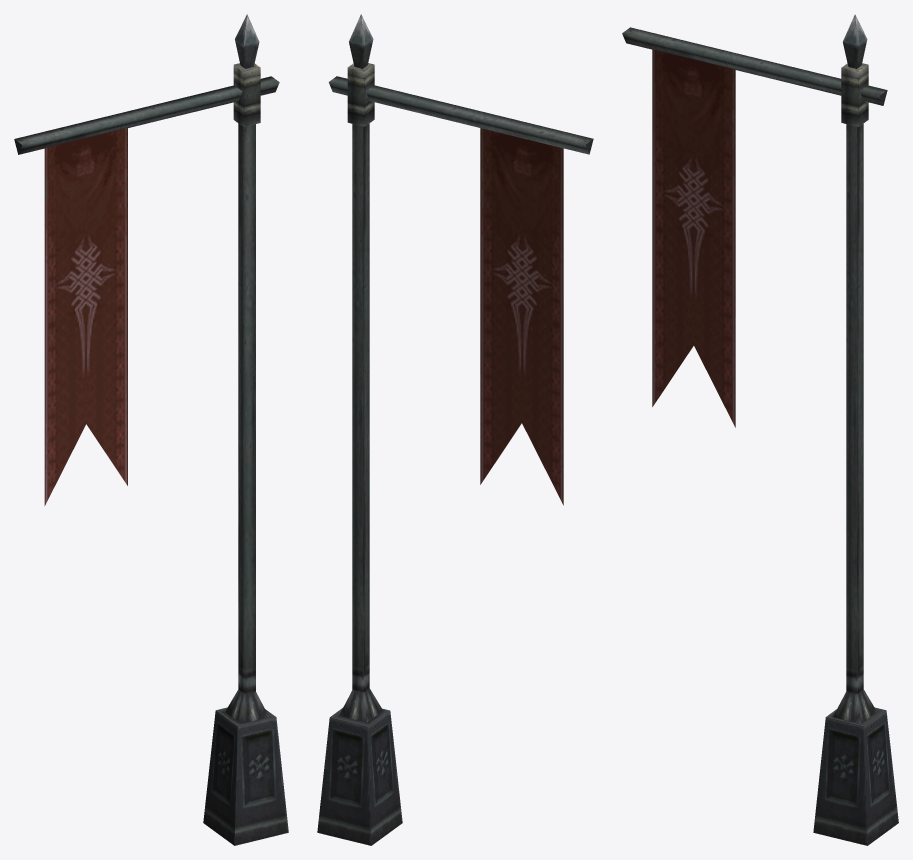
File: SC_guowangchengbao_26.FBX
3 renders of one model, left to right at view 1: azimuth 30°, elevation 25°; view 2: azimuth 150°, elevation 25°; view 3: azimuth 330°, elevation 25°, orthographic.
Visible parts, largest first — view 1: SC_guowangchengbao_26; view 2: SC_guowangchengbao_26; view 3: SC_guowangchengbao_26.
Part boxes in pixels (x1,y1,x2,y2): SC_guowangchengbao_26: [14, 14, 288, 845]; SC_guowangchengbao_26: [317, 14, 593, 845]; SC_guowangchengbao_26: [622, 14, 898, 845].
Size of the model in its own units: 185 by 561 by 39.09.
